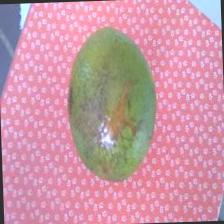Orange Rotten: (54, 22, 172, 192)
